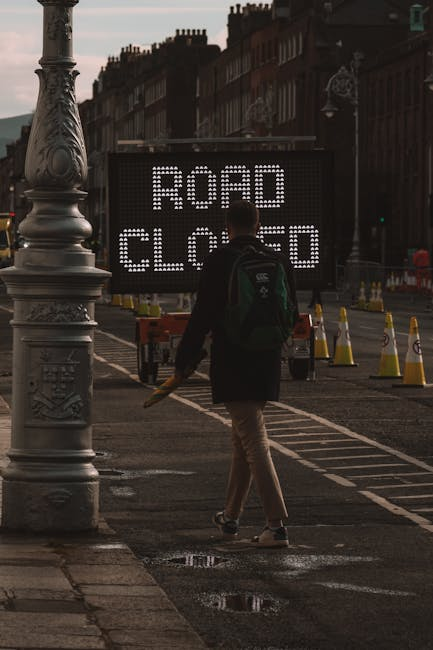traffic_cone: (392, 316, 432, 389), (369, 310, 403, 380), (328, 307, 359, 368), (310, 303, 331, 360)
